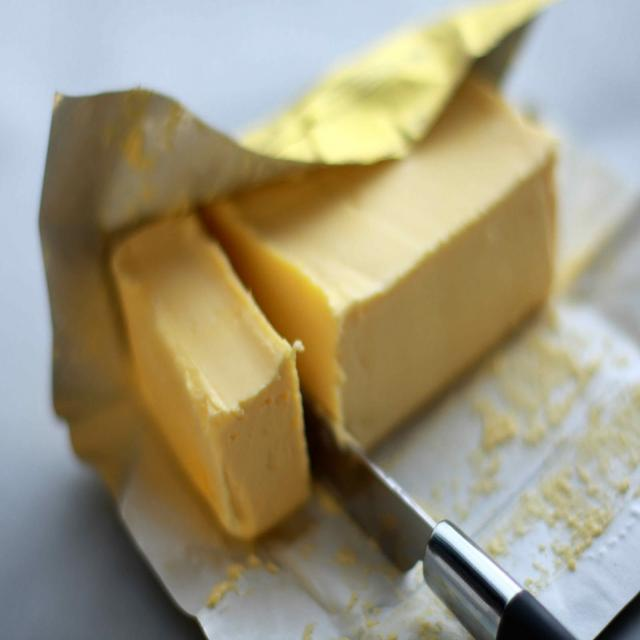Butter: (206, 98, 562, 436), (109, 208, 319, 552)
